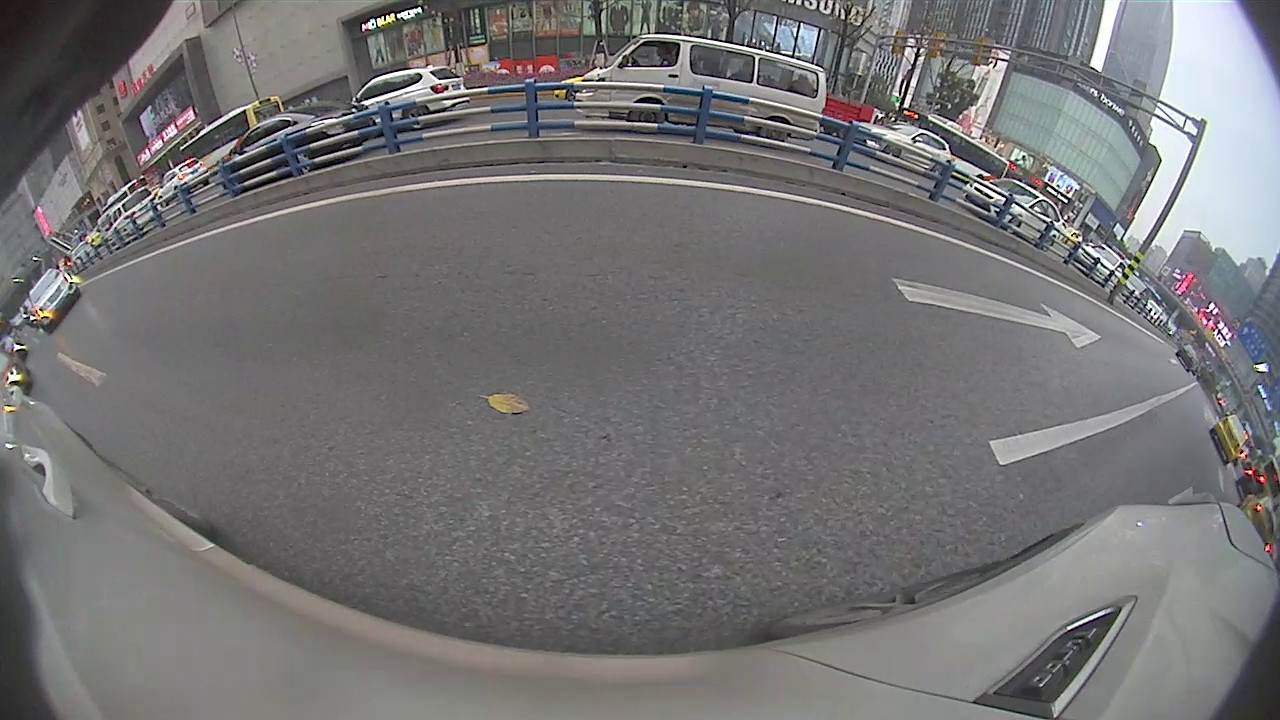car: (569, 29, 830, 153), (219, 98, 377, 199), (348, 60, 473, 138), (959, 176, 1067, 252), (853, 118, 955, 181), (25, 264, 82, 336)
front: (630, 98, 669, 136)
rear: (757, 114, 790, 148), (403, 102, 431, 129)
